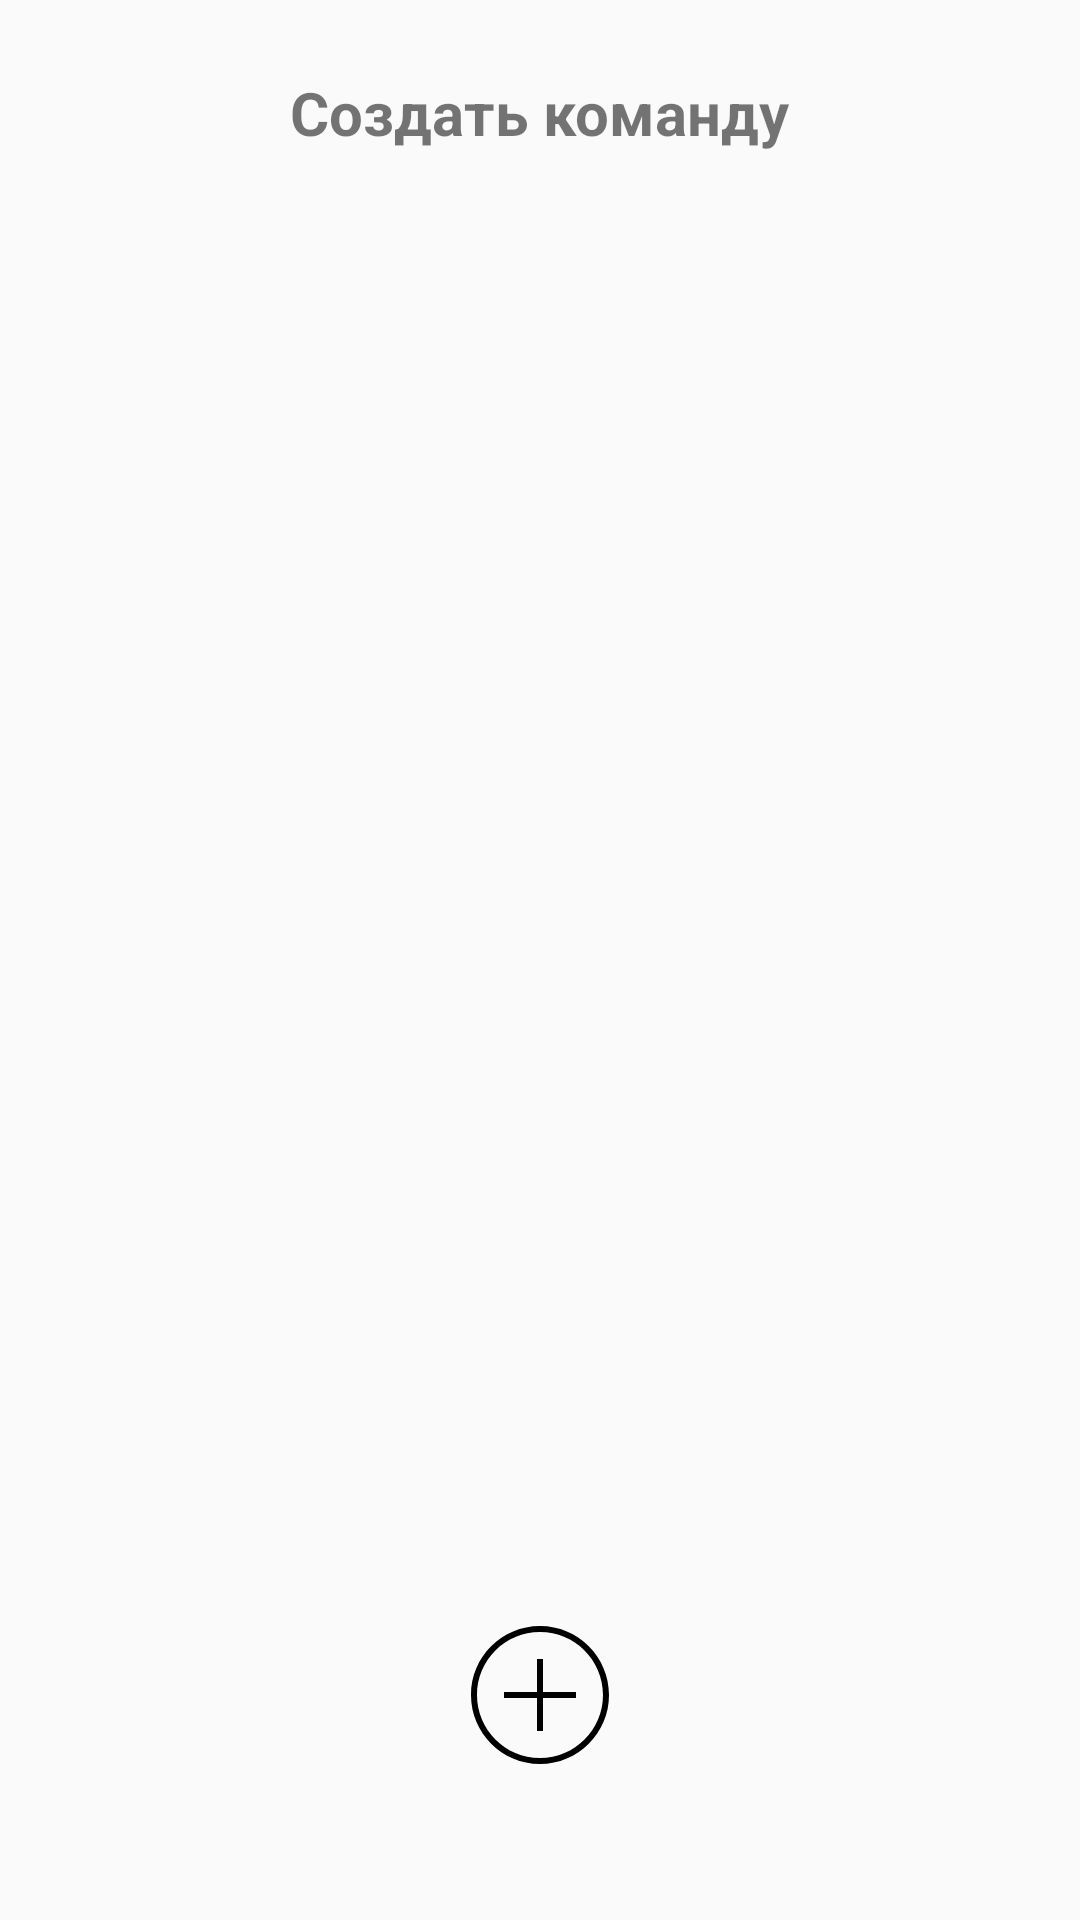

Where icons sit on this 1080×1920 app screen, as (x1, y1, x2, y2):
add: (471, 1626, 609, 1764)
